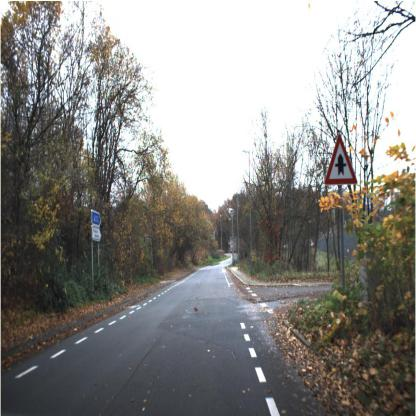danger: (322, 127, 359, 196)
